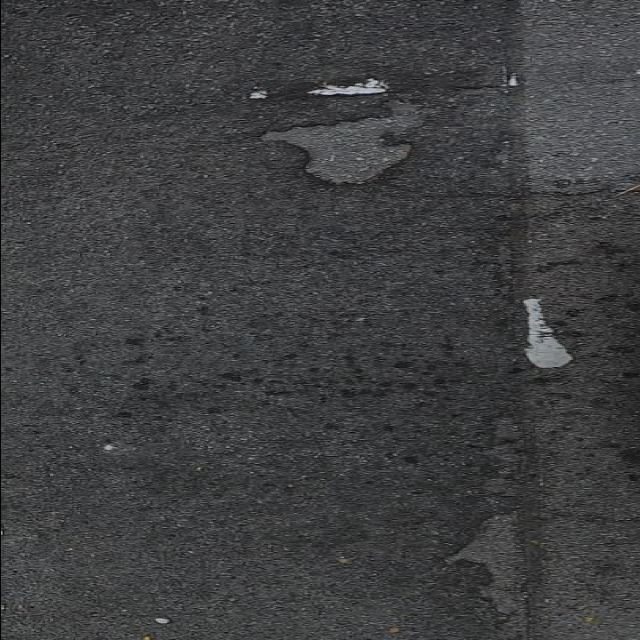cracks: (446, 408, 580, 609), (451, 166, 633, 212)
potholes: (215, 74, 448, 206), (501, 274, 592, 380), (484, 62, 544, 96)
